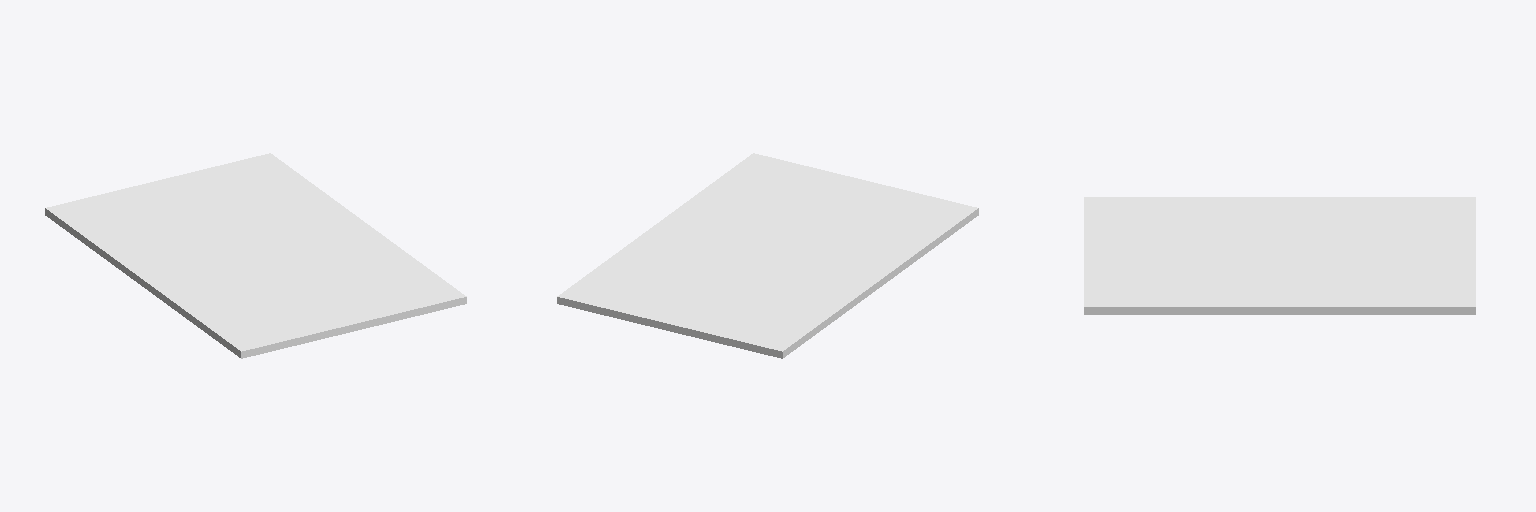
File: BookCover.obj
3 views of the same model, side by side, from view 1: azimuth 30°, elevation 25°; view 2: azimuth 150°, elevation 25°; view 3: azimuth 270°, elevation 25° (orthographic).
Bounding box in the file's own units: 65 × 2 × 98.